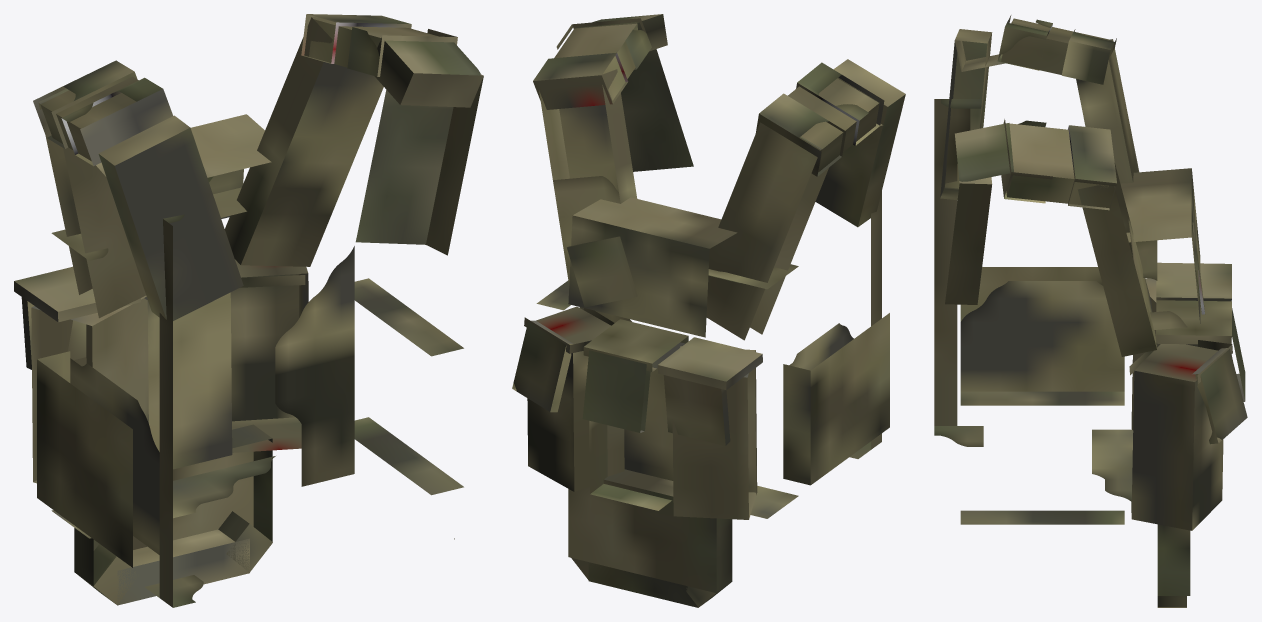
File: pmc.obj
3 renders of one model, left to right at view 1: azimuth 30°, elevation 25°; view 2: azimuth 150°, elevation 25°; view 3: azimuth 270°, elevation 25°, orthographic. The views are drawn at different scales.
Parts seen in each view (by area): view 1: cube.031; view 2: cube.031; view 3: cube.031.
Boxes of the visible parts, left/top/right/bottom form: cube.031: left=14, top=14, right=483, bottom=607; cube.031: left=512, top=14, right=905, bottom=607; cube.031: left=934, top=15, right=1247, bottom=607.
Size of the model in its own units: 0.7121 by 1.07 by 0.5966.
